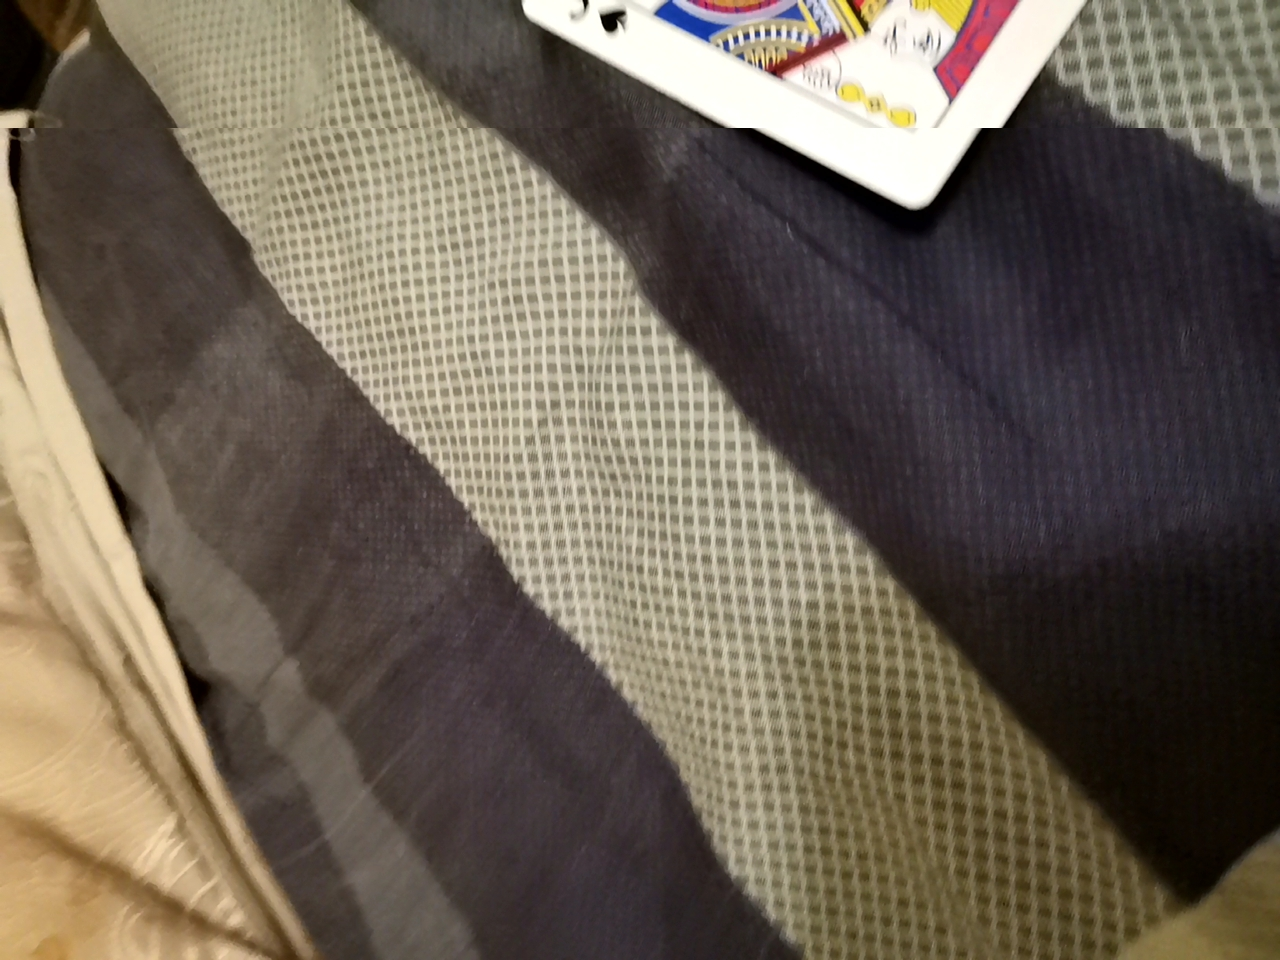ht j: (443, 1, 1200, 231)
